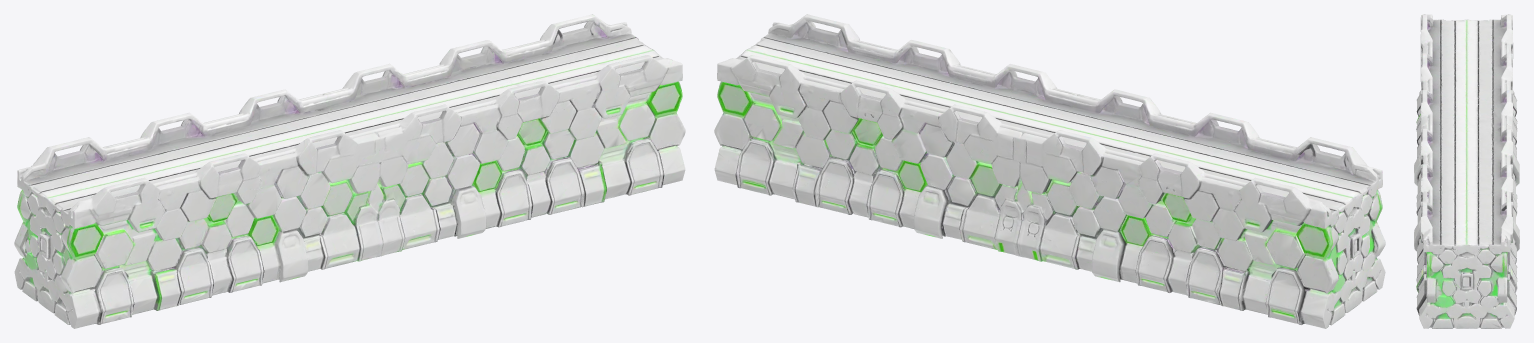
File: firewall-sentinel.glb
The picture shows the model from 3 angles, left to right: view 1: azimuth 30°, elevation 25°; view 2: azimuth 150°, elevation 25°; view 3: azimuth 270°, elevation 25°; orthographic projection. The views are drawn at different scales.
Bounding box in the file's own units: 1.9 × 0.3911 × 0.3698.
1 material, 1 textured.
